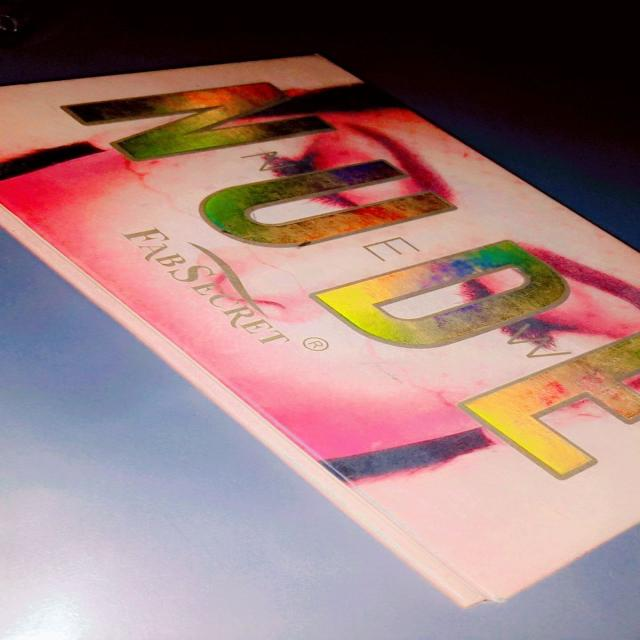makeup: (1, 27, 640, 619)
